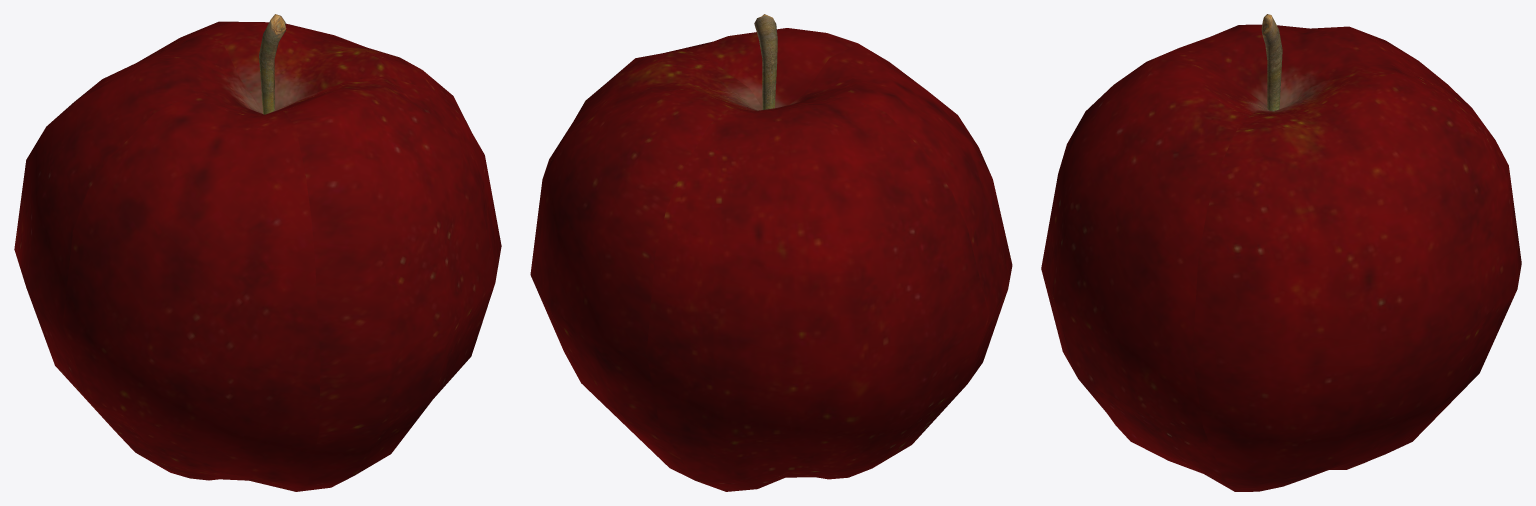
The model's file is pingguo.FBX.
The picture shows the model from 3 angles, left to right: view 1: azimuth 30°, elevation 25°; view 2: azimuth 150°, elevation 25°; view 3: azimuth 270°, elevation 25°; orthographic projection.
Parts seen in each view (by area): view 1: pingguo; view 2: pingguo; view 3: pingguo.
Boxes of the visible parts, <box> form: pingguo: <box>14,14,501,491</box>; pingguo: <box>530,14,1012,491</box>; pingguo: <box>1041,14,1521,491</box>.
Bounding box in the file's own units: 12.19 × 12.48 × 12.05.
1 material, 1 textured.
